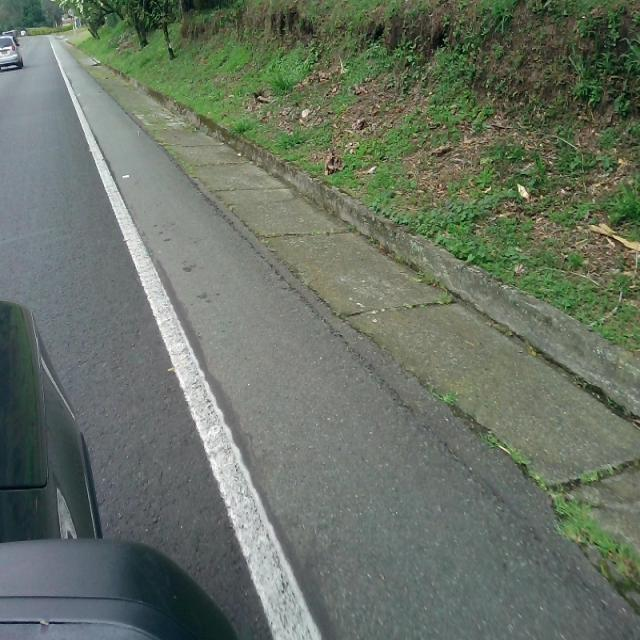DITCH: (4, 17, 638, 638), (47, 30, 638, 638)
